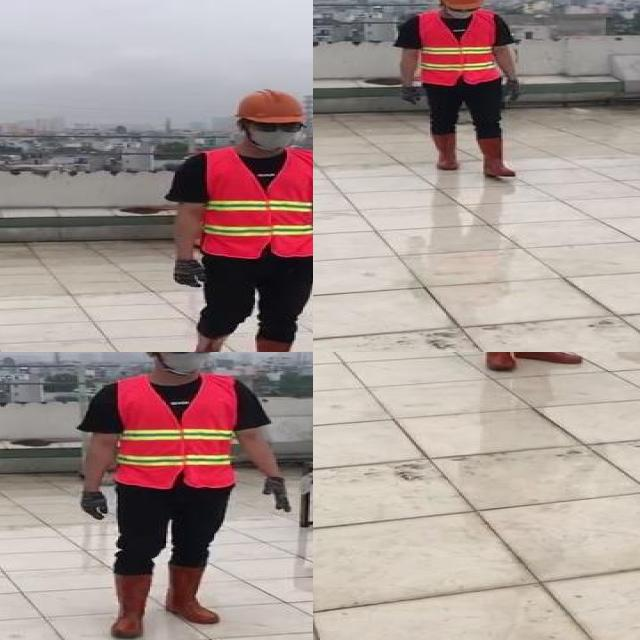boots: (164, 564, 225, 624), (109, 571, 155, 639), (476, 135, 519, 178), (426, 133, 461, 171), (251, 337, 306, 352), (480, 352, 515, 375), (187, 333, 228, 352)
face_mask: (242, 114, 308, 150), (157, 352, 217, 375)
glasses: (248, 118, 306, 136), (164, 352, 217, 356)
hand_glove: (260, 477, 294, 512), (173, 256, 209, 288), (79, 490, 109, 520), (501, 78, 519, 102), (400, 84, 418, 106)
head_helmet: (234, 86, 308, 126), (439, 0, 487, 11)
person: (66, 352, 302, 640), (165, 85, 313, 352), (388, 0, 534, 189)
vest: (113, 375, 237, 489), (205, 147, 313, 258), (418, 10, 501, 85)
